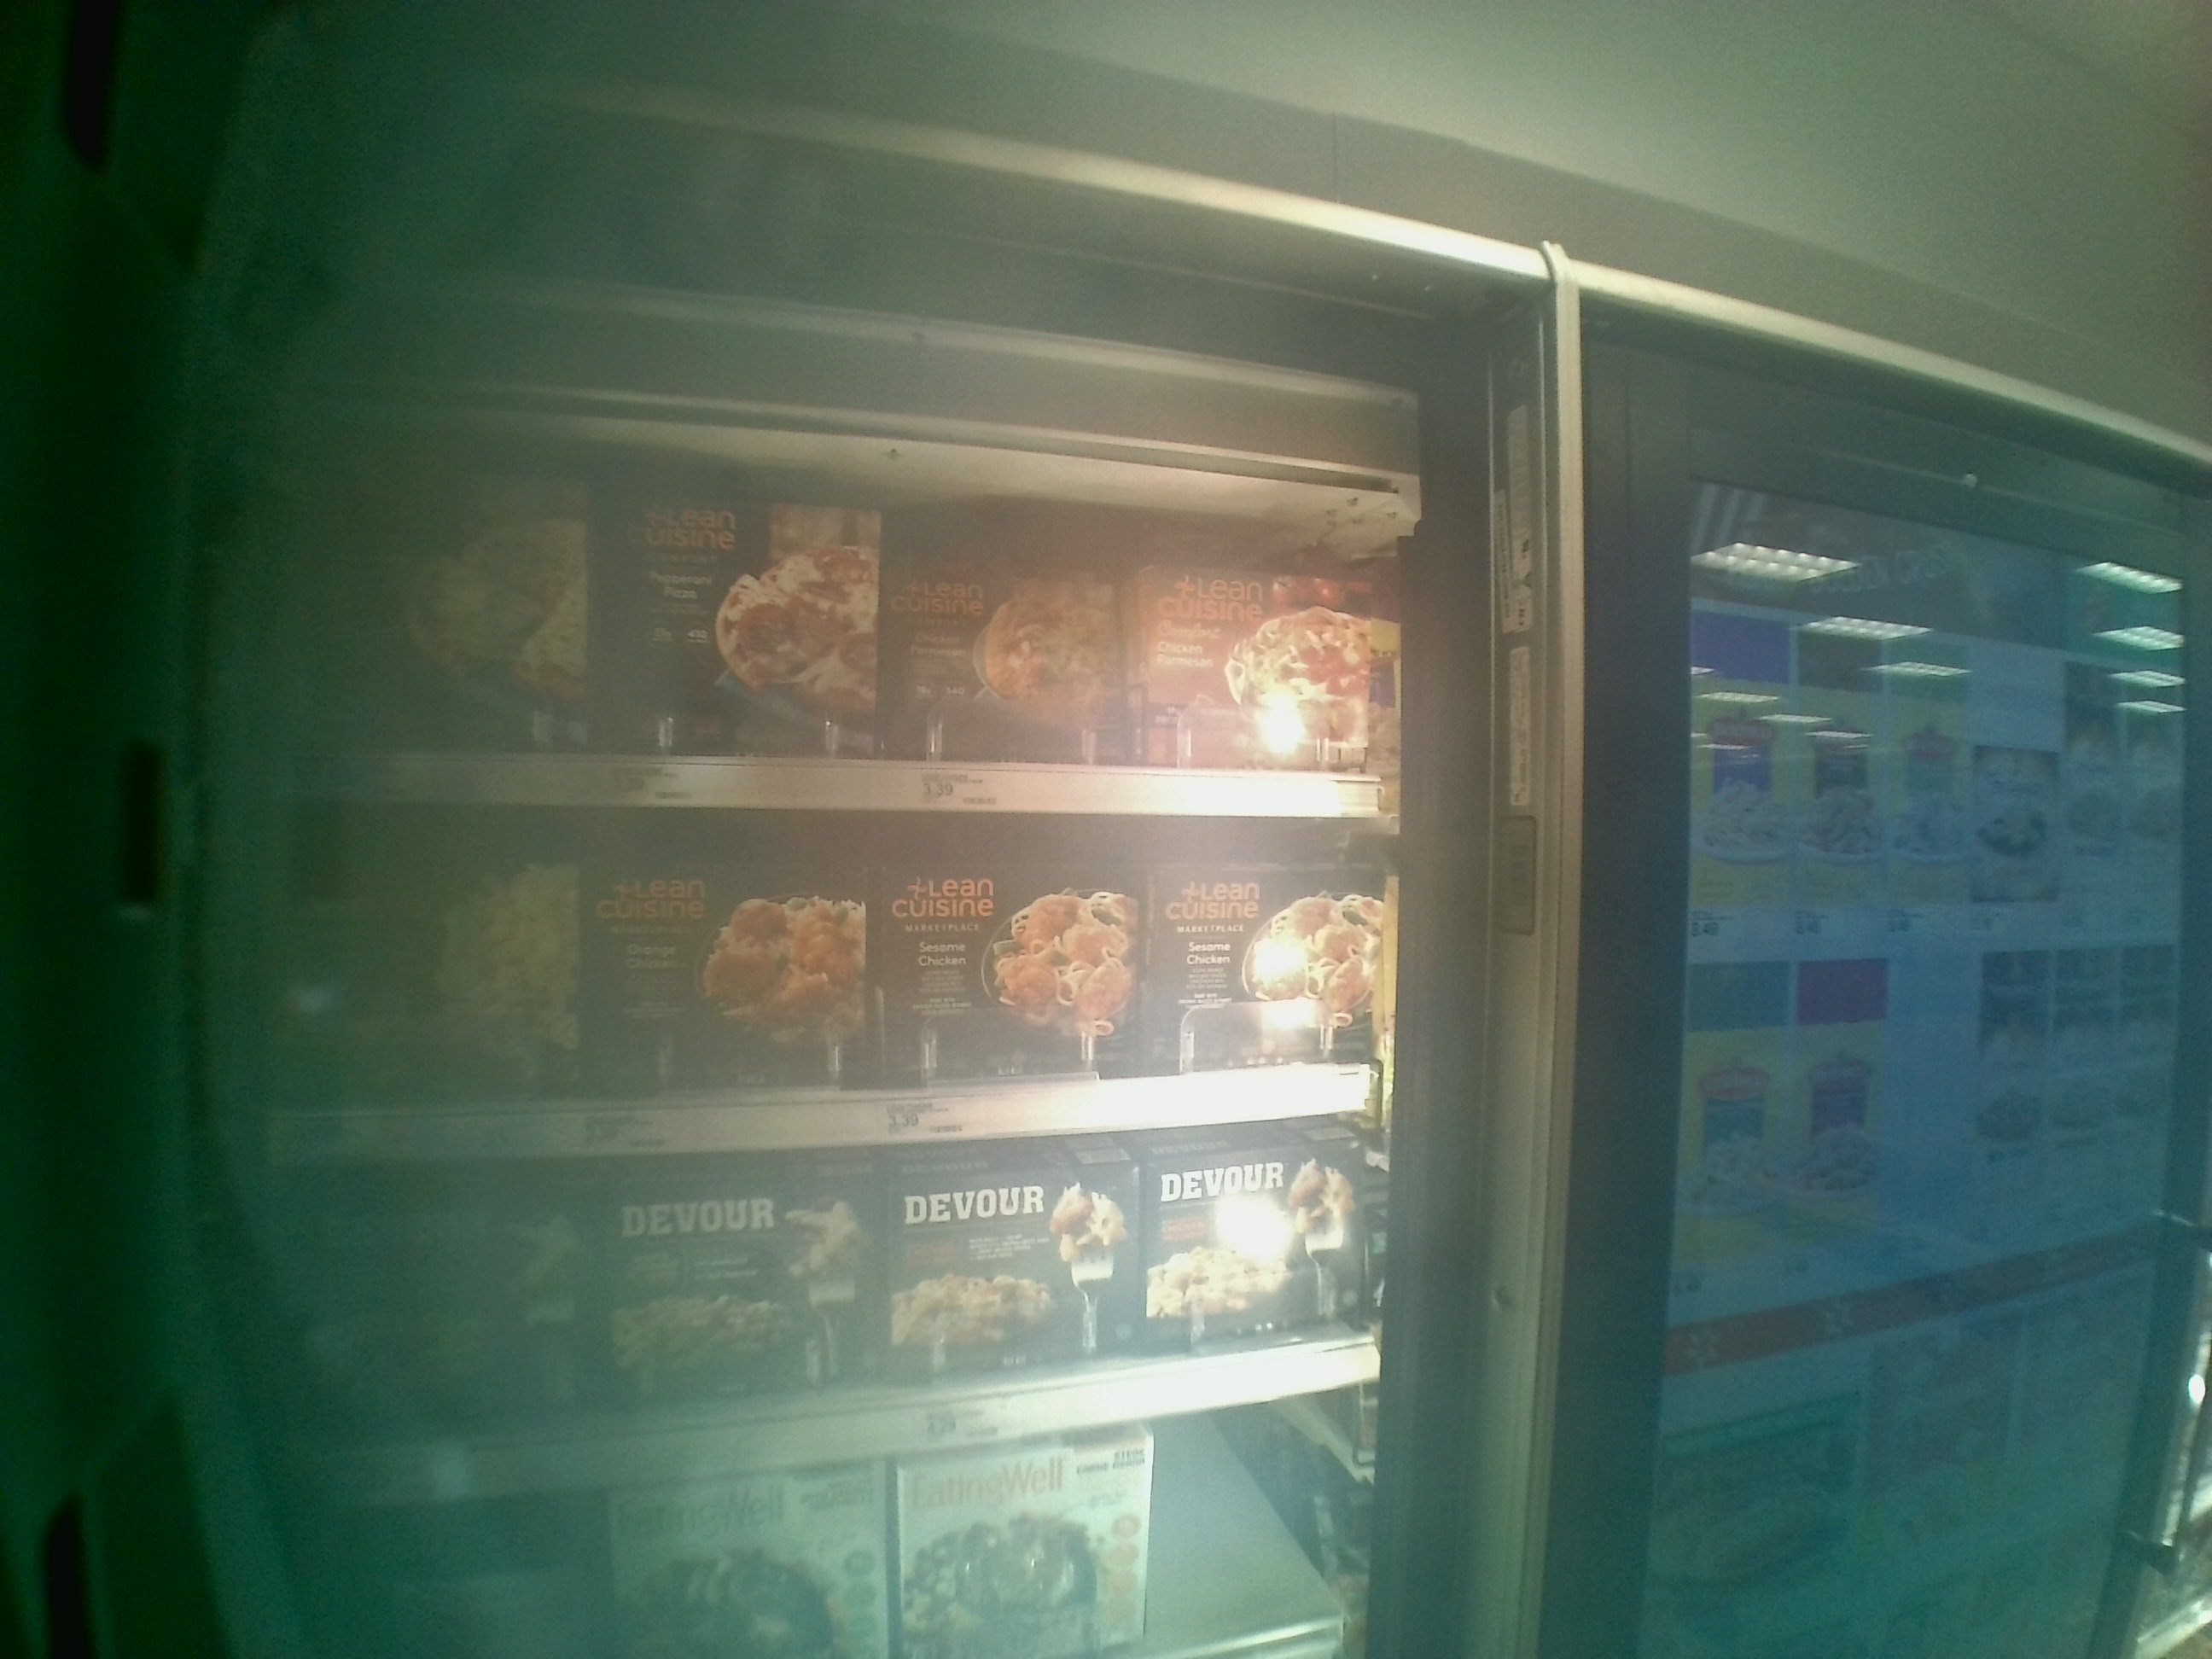pizza: (291, 446, 592, 741), (272, 817, 592, 1084), (608, 476, 874, 748), (301, 1194, 613, 1405), (599, 852, 864, 1079), (608, 1161, 878, 1382), (867, 843, 1130, 1065), (888, 526, 1129, 763), (904, 1431, 1160, 1649), (1134, 561, 1379, 769), (892, 1176, 1143, 1377), (1143, 868, 1376, 1051), (1150, 1161, 1366, 1356)
